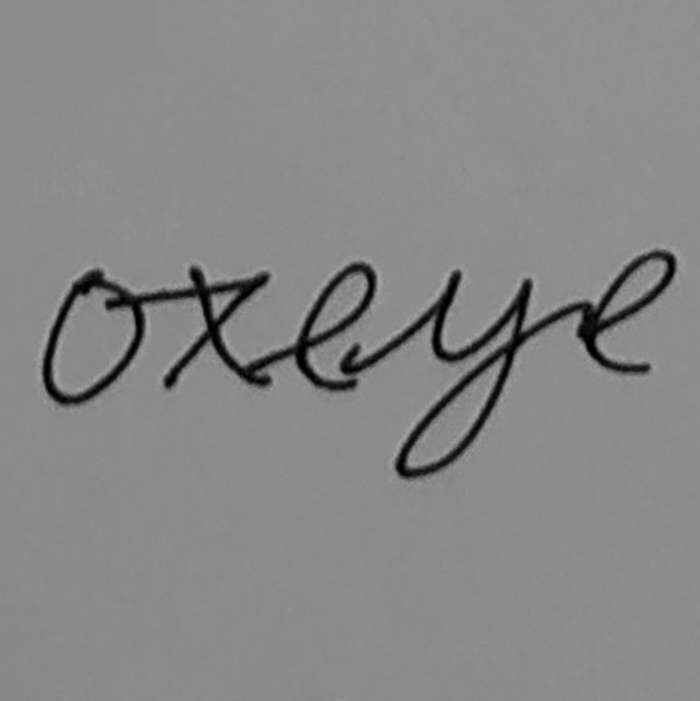e: (576, 244, 682, 378), (290, 257, 382, 395)
o: (36, 265, 148, 409)
x: (159, 262, 275, 394)
y: (390, 264, 535, 484)
